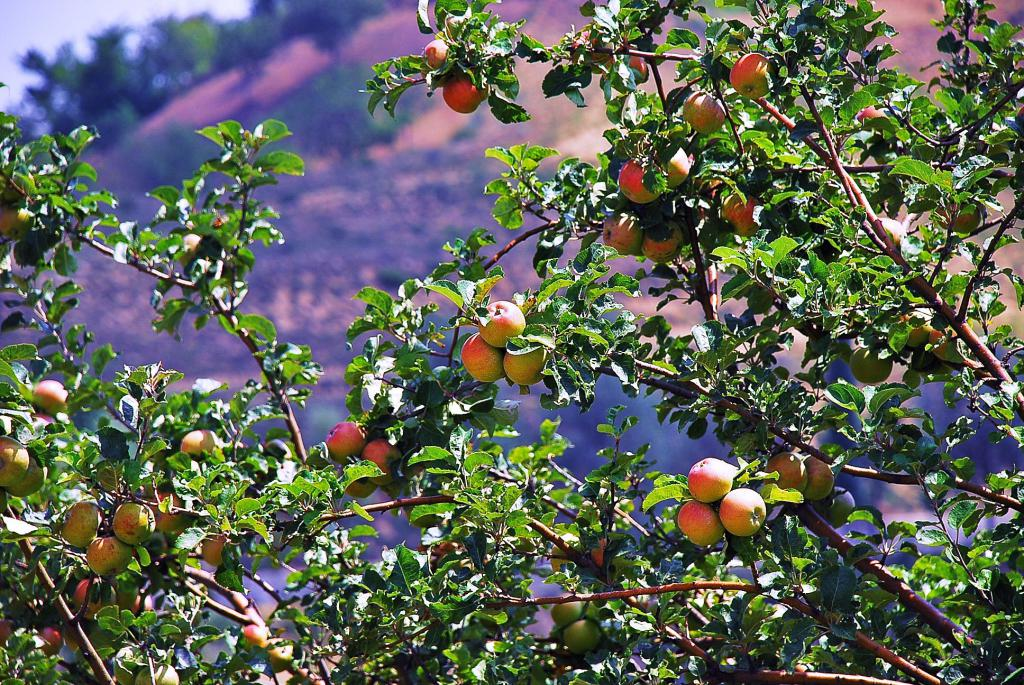Apple: (35, 490, 229, 654), (616, 155, 666, 208), (727, 49, 776, 103), (496, 338, 551, 386), (929, 312, 984, 360), (714, 487, 762, 538), (679, 86, 730, 132), (21, 412, 67, 460), (481, 297, 526, 346), (460, 331, 504, 381), (606, 51, 656, 92), (679, 499, 723, 544), (567, 29, 613, 72), (689, 456, 732, 502), (444, 71, 492, 112), (604, 209, 647, 254), (714, 193, 759, 236), (851, 345, 897, 386), (325, 420, 369, 462), (901, 304, 945, 346), (640, 216, 686, 256), (769, 450, 808, 496), (549, 592, 593, 632), (556, 614, 600, 654), (0, 432, 33, 485), (362, 439, 401, 483), (336, 459, 380, 496), (30, 380, 72, 418), (696, 177, 732, 221), (5, 462, 51, 496), (803, 451, 833, 503), (0, 197, 35, 241), (823, 489, 860, 528), (933, 201, 984, 229), (110, 647, 149, 681), (417, 38, 446, 83), (176, 430, 220, 459), (663, 146, 689, 189), (549, 531, 574, 572), (259, 640, 295, 668), (588, 530, 609, 571), (135, 663, 174, 683), (856, 100, 890, 119), (238, 624, 268, 645)
